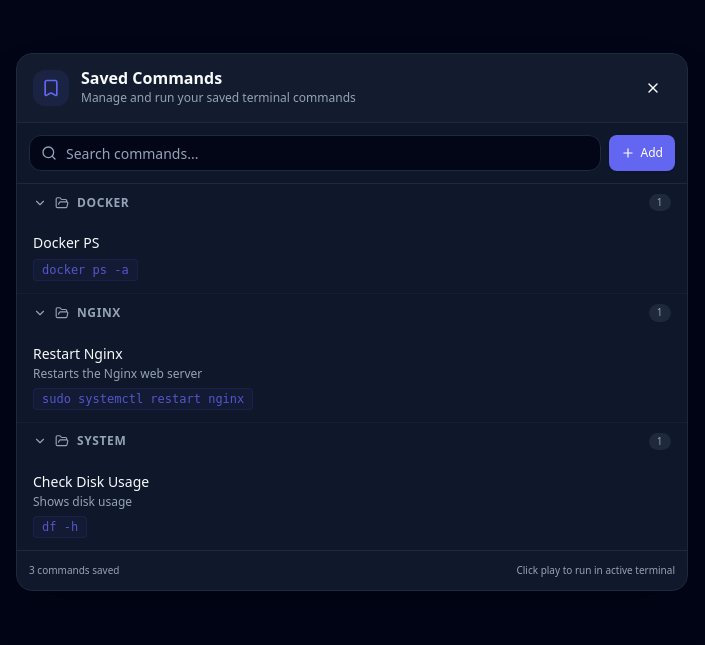
Test: SavedCommandsModal › hides form when Cancel is clicked in form
Check: the heading "Saved Commands" is shown, box x1=81 y1=67 x2=222 y2=89
Click the button "Add".
click(642, 153)  # box x1=609 y1=135 x2=675 y2=171
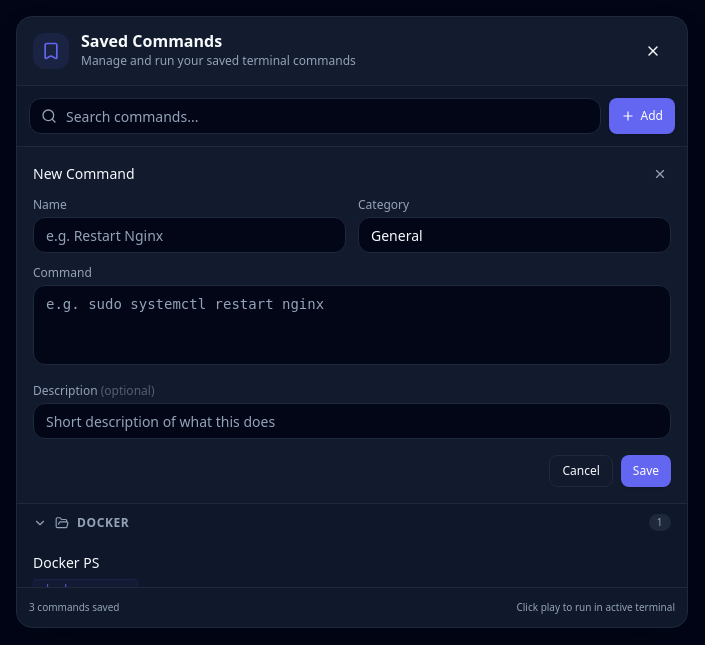
Check: the heading "New Command" is shown, box x1=33 y1=164 x2=134 y2=184
Click the button "Cancel".
click(581, 471)  # box x1=550 y1=455 x2=613 y2=487
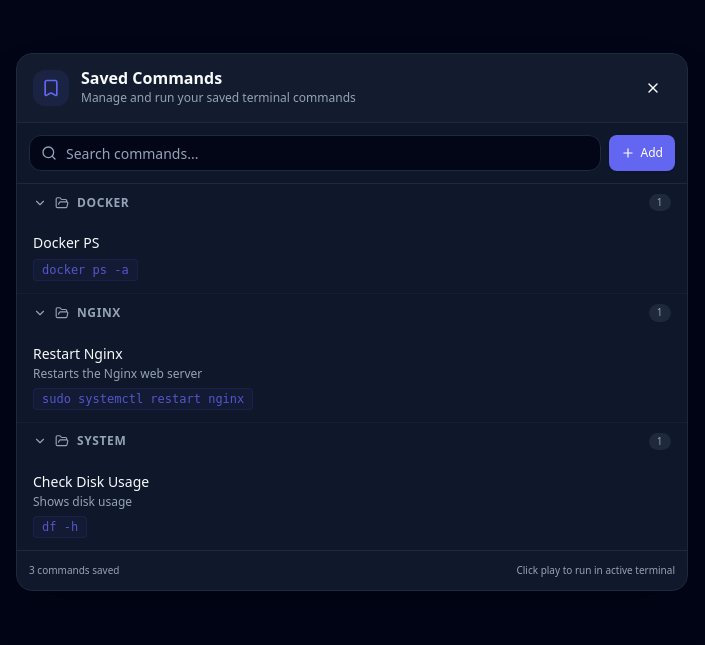
Check: the heading "New Command" is gone
